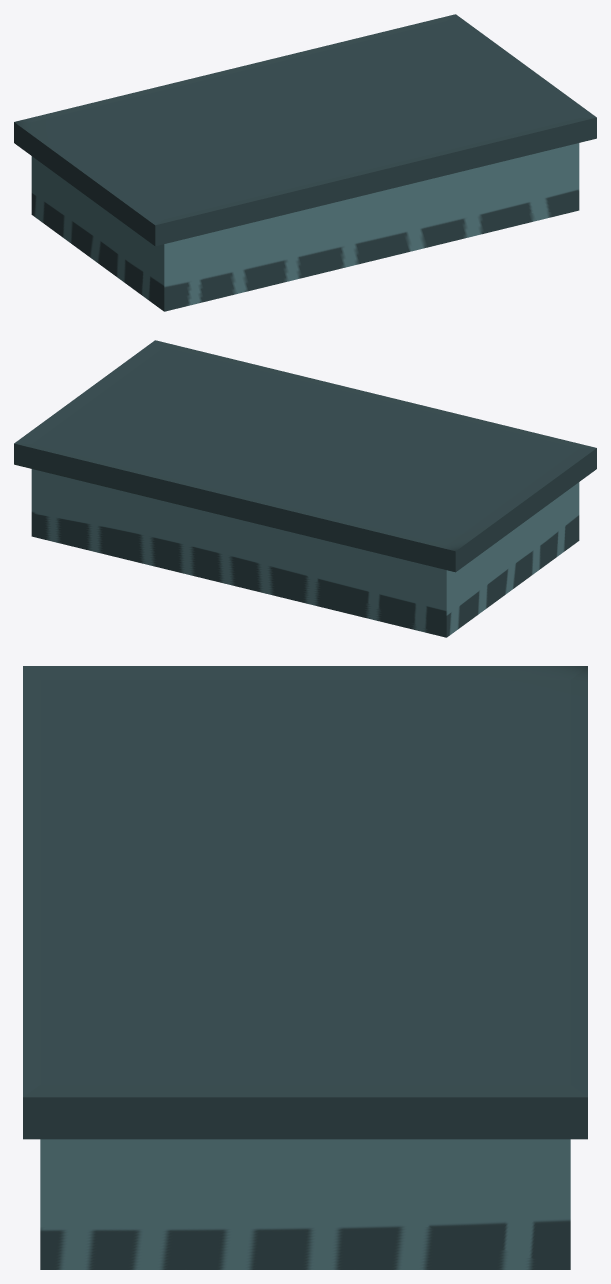
File: IslaCocina.fbx
3 views of the same model, one above another, from view 1: azimuth 30°, elevation 25°; view 2: azimuth 150°, elevation 25°; view 3: azimuth 270°, elevation 25° (orthographic). The views are drawn at different scales.
Parts seen in each view (by area): view 1: Prueba caffff.007; view 2: Prueba caffff.007; view 3: Prueba caffff.007.
Part boxes in pixels (left/top/right/bottom): Prueba caffff.007: left=14, top=14, right=596, bottom=311; Prueba caffff.007: left=14, top=340, right=596, bottom=637; Prueba caffff.007: left=23, top=666, right=587, bottom=1269.
Bounding box in the file's own units: 492 × 98.75 × 272.
